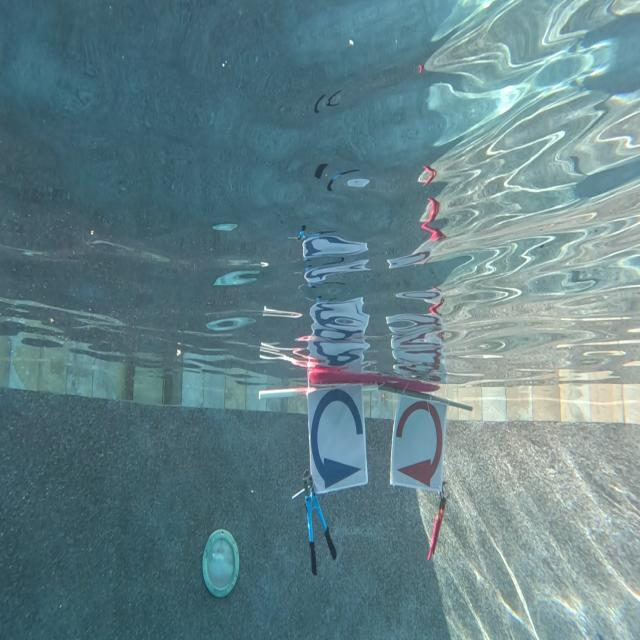blue_side: (306, 384, 372, 493)
red_side: (391, 388, 445, 492)
